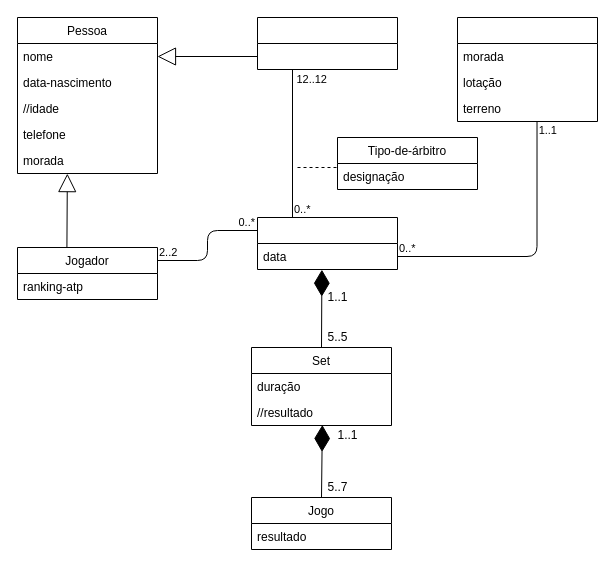
The diagram is 615 pixels wide and 570 high, and some of its shapes have lost their labels. The shapes that lost their labels are listed below. From the top down, each one's box as (x1, y1, x2, y2) in pixels, then its label:
(256, 16, 398, 70): Árbitro
(456, 16, 598, 122): Court
(256, 216, 398, 270): Encontro
